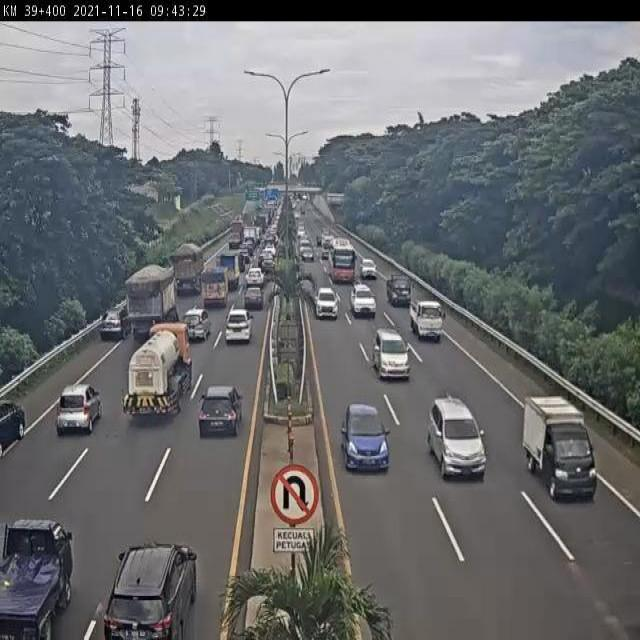big bus: (326, 236, 357, 284)
car: (106, 542, 199, 640), (427, 396, 489, 481), (341, 404, 393, 476), (49, 389, 98, 447), (194, 388, 241, 444), (373, 331, 409, 380), (94, 308, 132, 349), (175, 313, 209, 348), (227, 310, 252, 346), (353, 284, 375, 316), (313, 284, 336, 313), (242, 288, 264, 317)
small truck: (522, 394, 597, 502), (0, 525, 67, 640), (409, 299, 444, 341), (199, 265, 228, 311), (386, 274, 411, 310)
truck-l-: (122, 265, 175, 347), (170, 244, 205, 297)
truck-m-: (120, 327, 190, 425)
